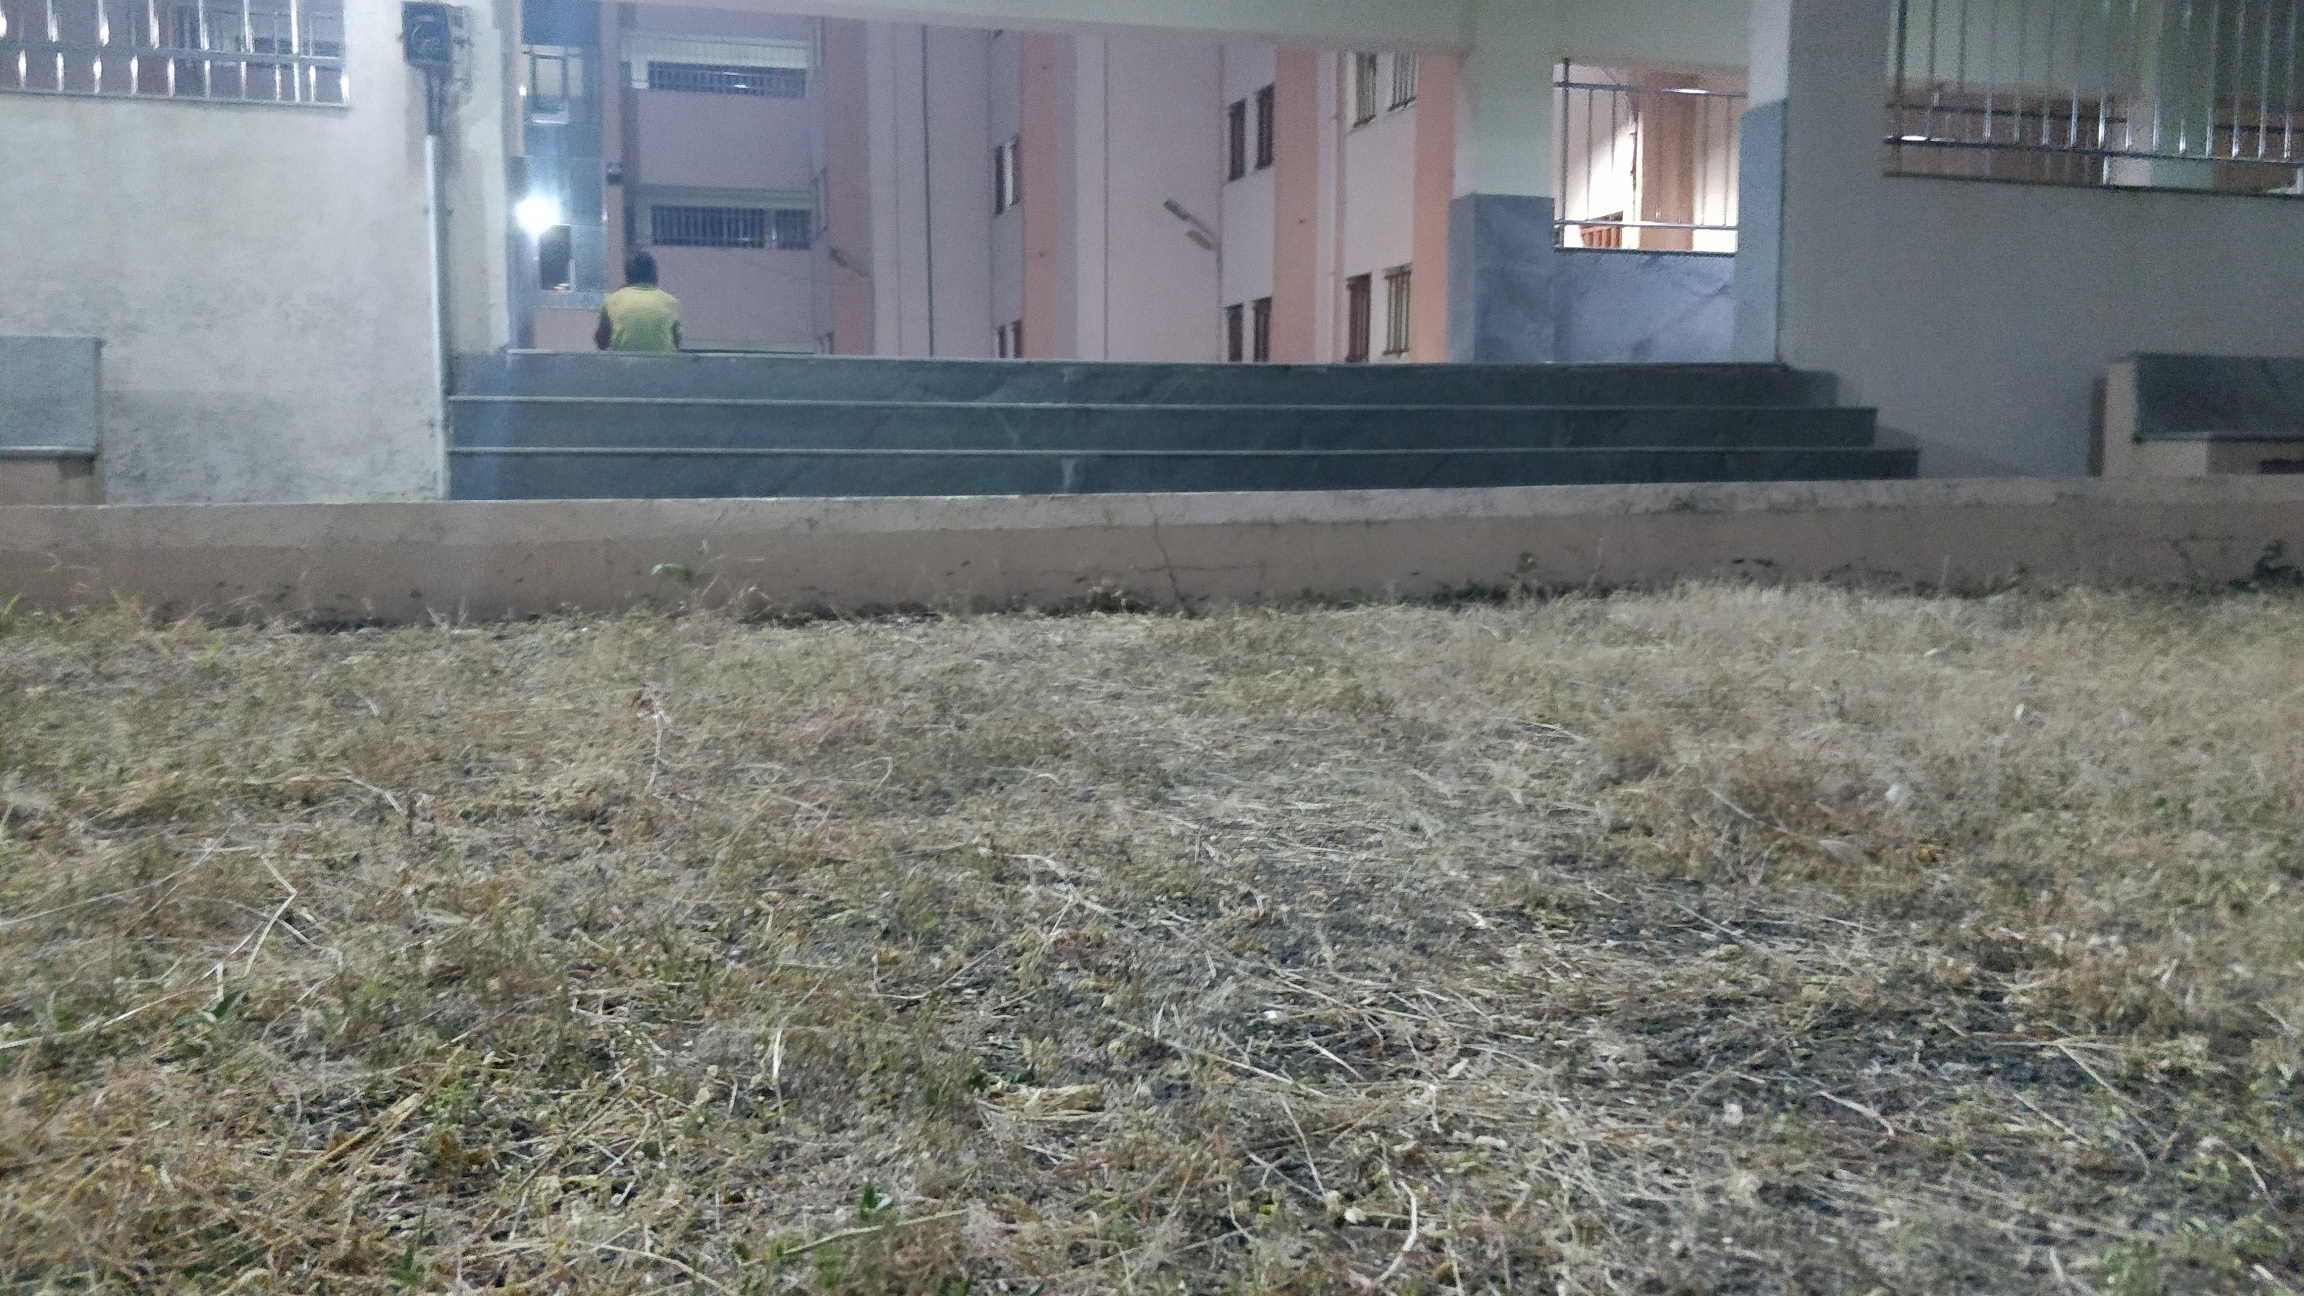stairs_up: (451, 343, 1940, 502)
